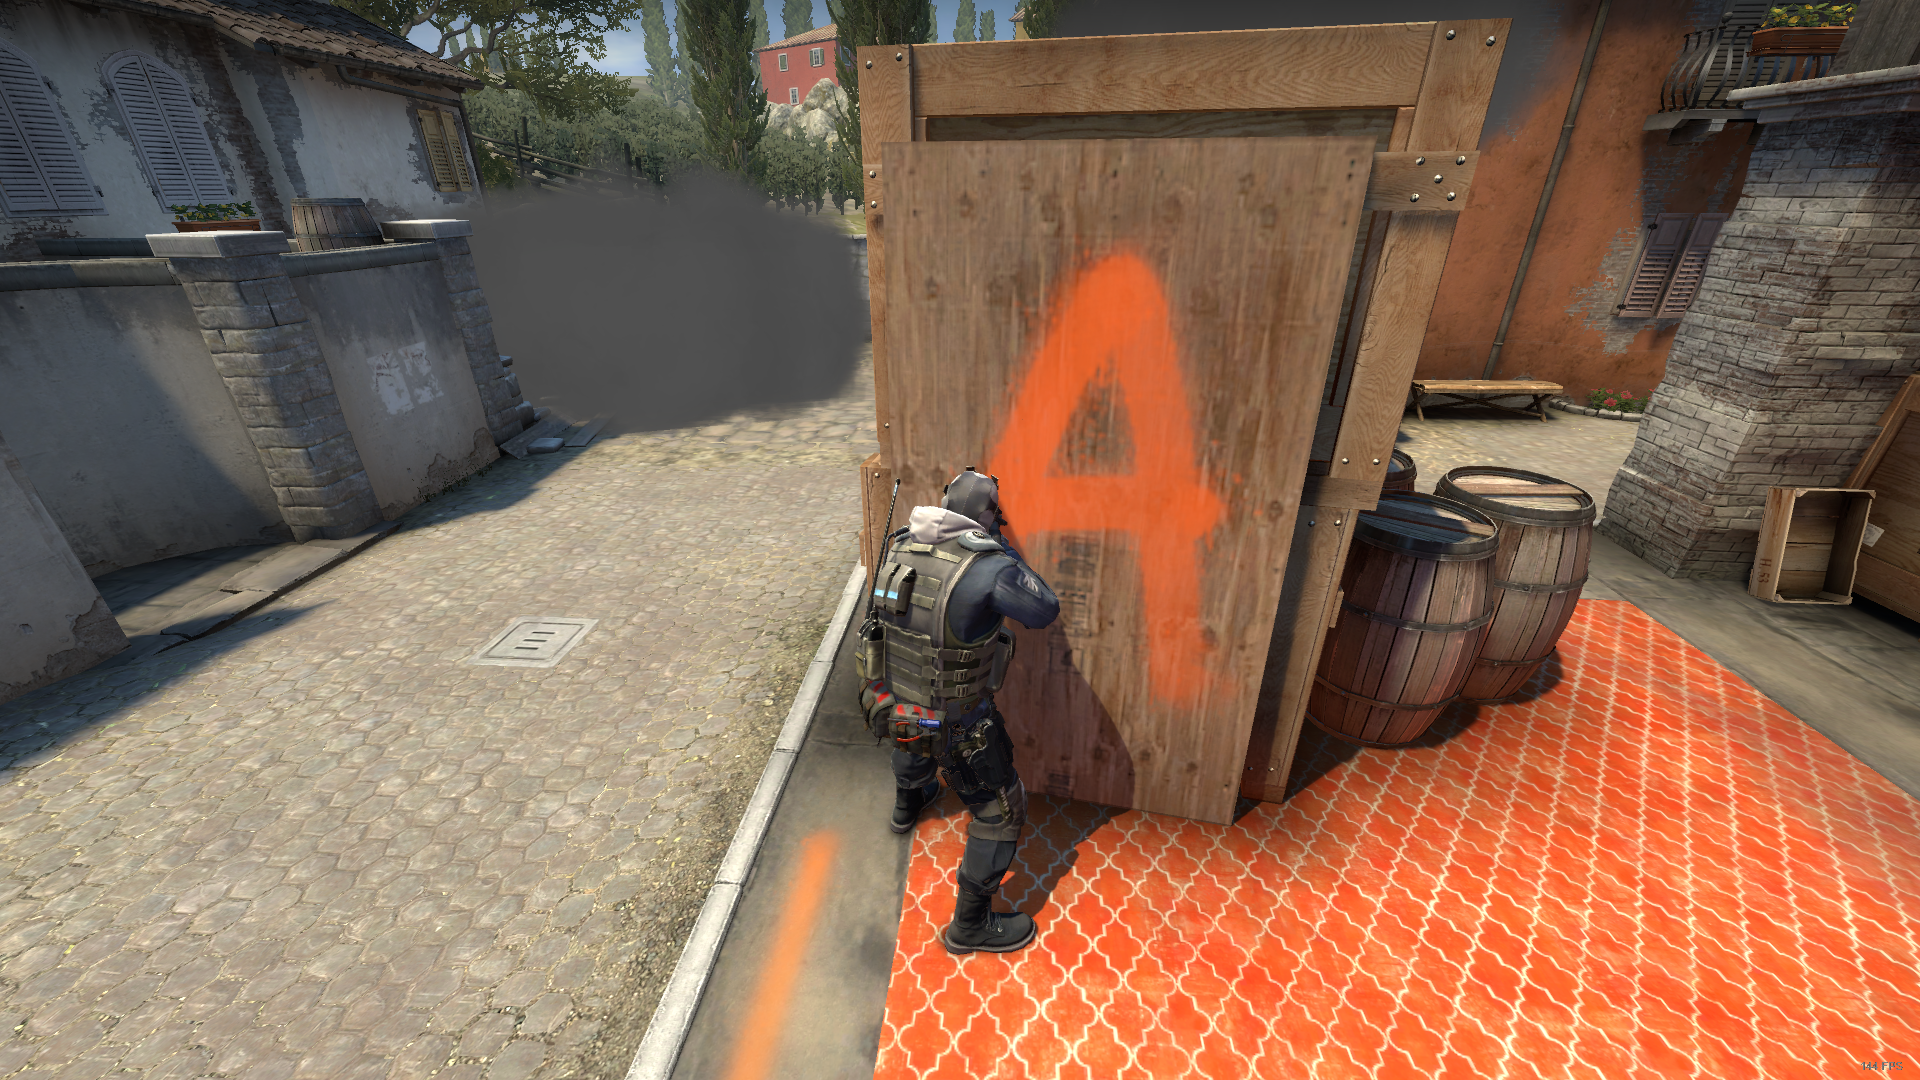ct: (857, 468, 1060, 949)
